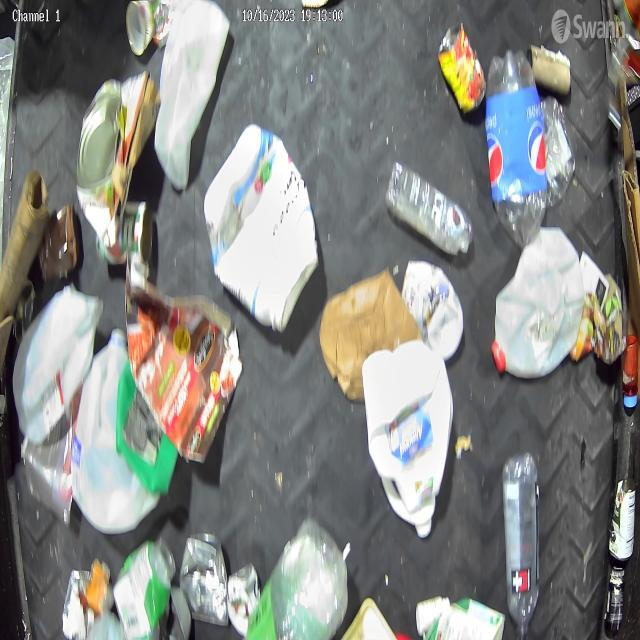can: (177, 528, 230, 626), (436, 18, 486, 119), (98, 198, 156, 268), (228, 558, 262, 640), (608, 476, 638, 564), (602, 561, 626, 638)
milk_jug: (72, 324, 170, 538), (360, 341, 456, 539), (11, 279, 108, 443), (152, 0, 232, 193), (491, 225, 587, 382)
plastic_bottle: (484, 45, 550, 252), (384, 159, 475, 262), (500, 448, 541, 640)
